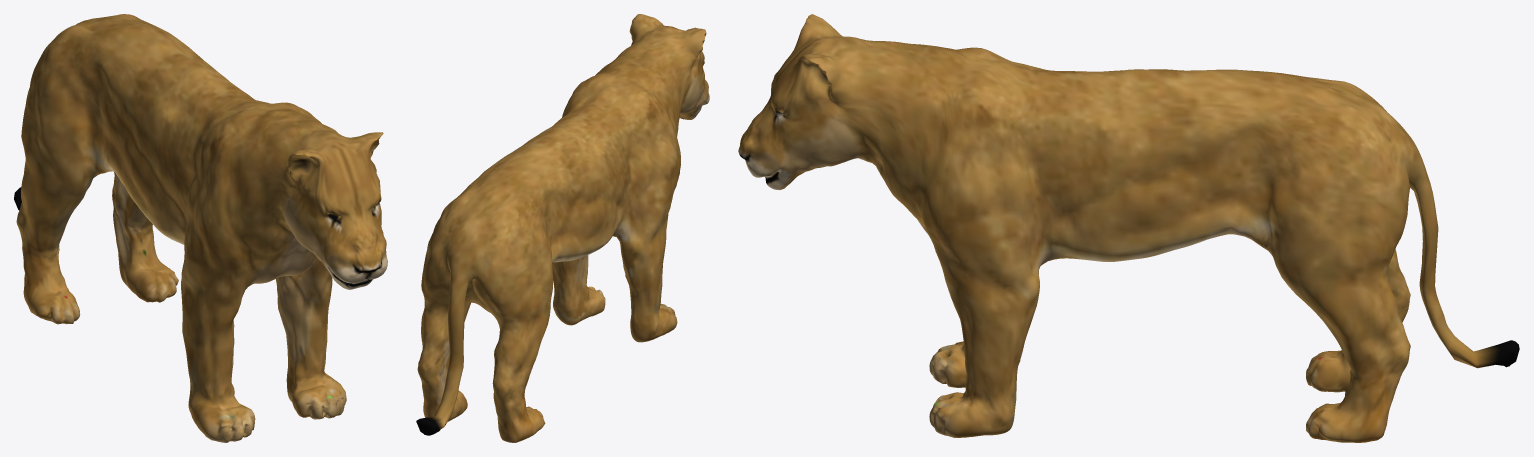
The model's file is Lion-fbx.FBX.
3 renders of one model, left to right at view 1: azimuth 30°, elevation 25°; view 2: azimuth 150°, elevation 25°; view 3: azimuth 270°, elevation 25°, orthographic. The views are drawn at different scales.
Parts seen in each view (by area): view 1: PM3D_Lion11; view 2: PM3D_Lion11; view 3: PM3D_Lion11.
Part boxes in pixels (bbox=[...]): PM3D_Lion11: bbox=[14, 14, 387, 442]; PM3D_Lion11: bbox=[416, 14, 709, 442]; PM3D_Lion11: bbox=[738, 14, 1519, 442].
Size of the model in its own units: 43.23 by 97.43 by 183.
1 material, 1 textured.
